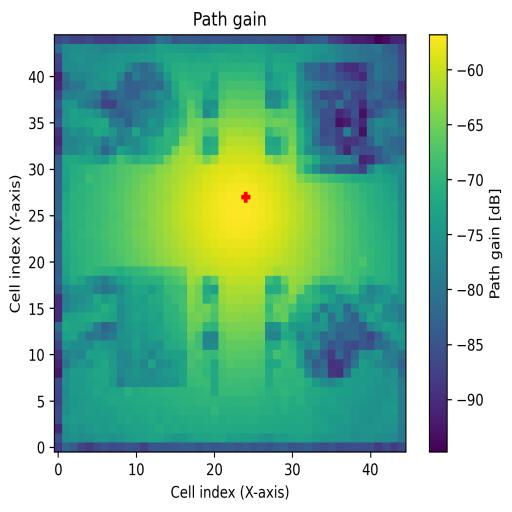Concrete: (296, 62, 376, 174)
Glass: (101, 58, 187, 155)
Metal: (289, 276, 391, 388)
Wood: (116, 267, 188, 387)
